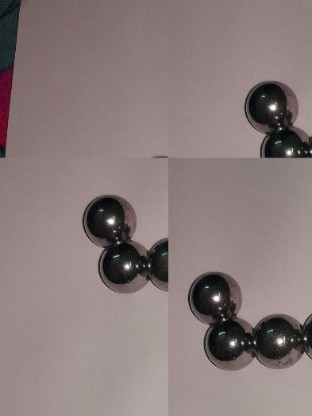ironball: (244, 304, 308, 372), (81, 188, 137, 249), (183, 269, 242, 325), (240, 80, 299, 135), (96, 241, 152, 298), (202, 318, 255, 377), (142, 232, 166, 293), (258, 127, 310, 155)
